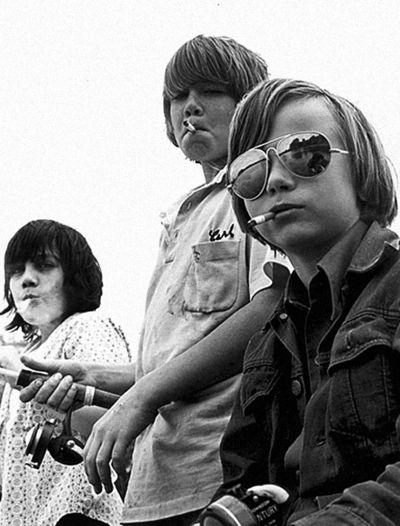cigarette: (248, 212, 276, 226), (182, 120, 196, 134)
